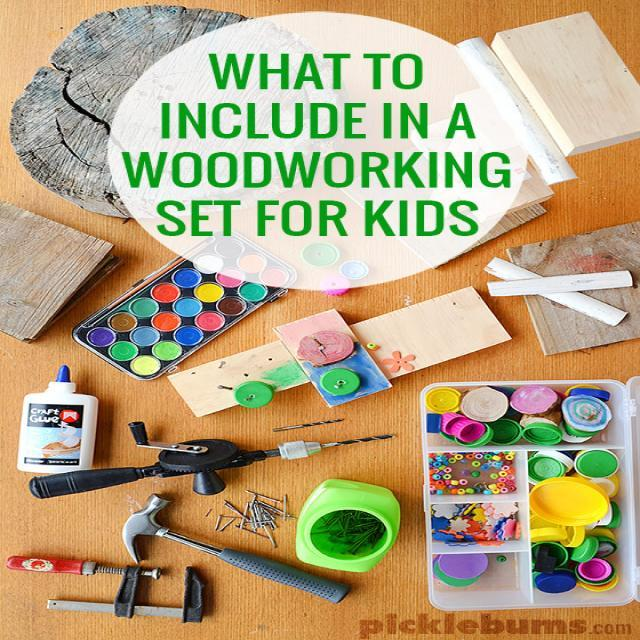hammer: (98, 486, 352, 606)
